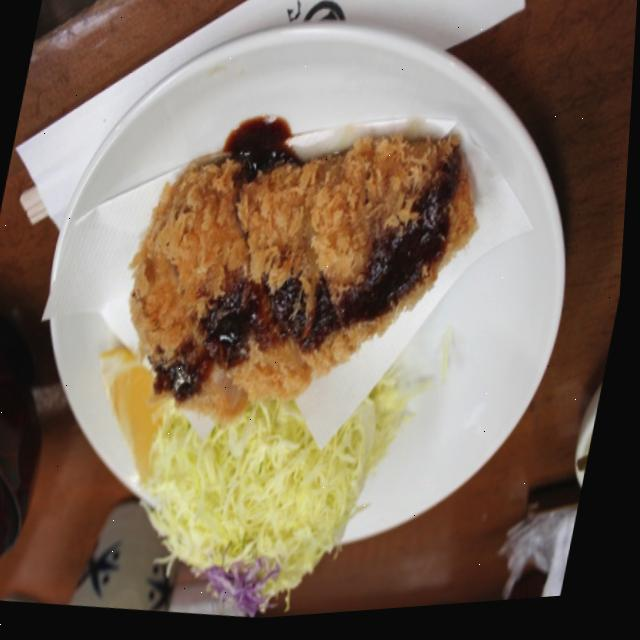蔬菜料理: (97, 337, 414, 633)
